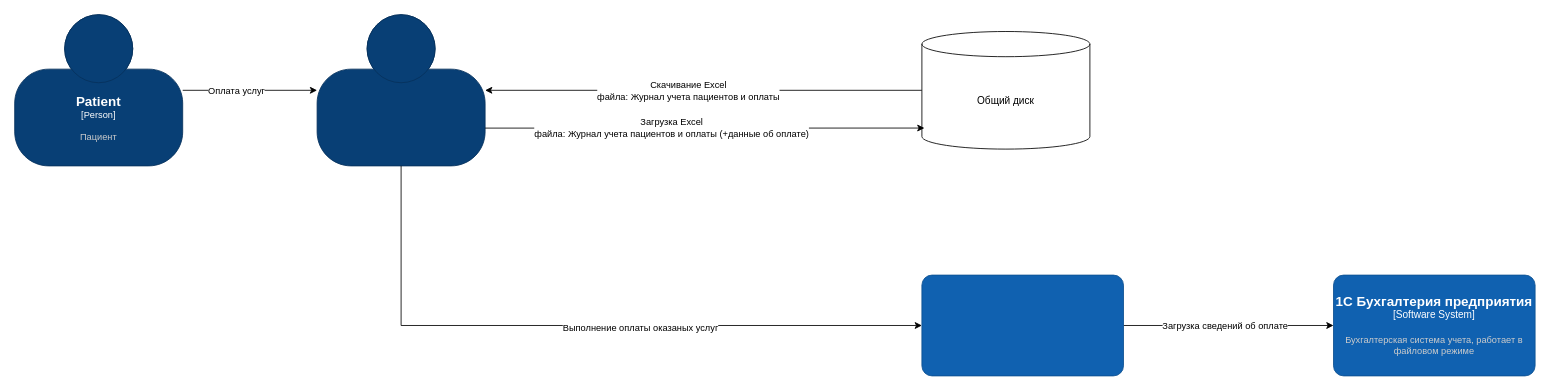
Some shapes in this 1550 by 391 pixel diagram are drawn without their labels. The shapes that lost their labels are listed below. From the top down, each one's centre as x and y in pixels, then its label:
[400,90]: Кассир [Person]
[1022,325]: ККМ [Software System] Контрольно-кассовая машина
